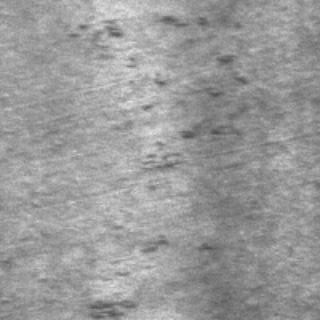rolled pit: (66, 14, 246, 170), (84, 230, 212, 318)
